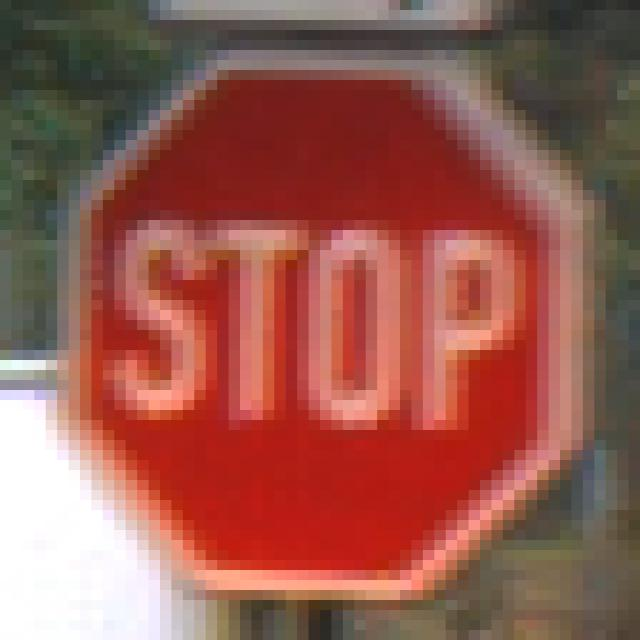STOP: (58, 51, 573, 591)
